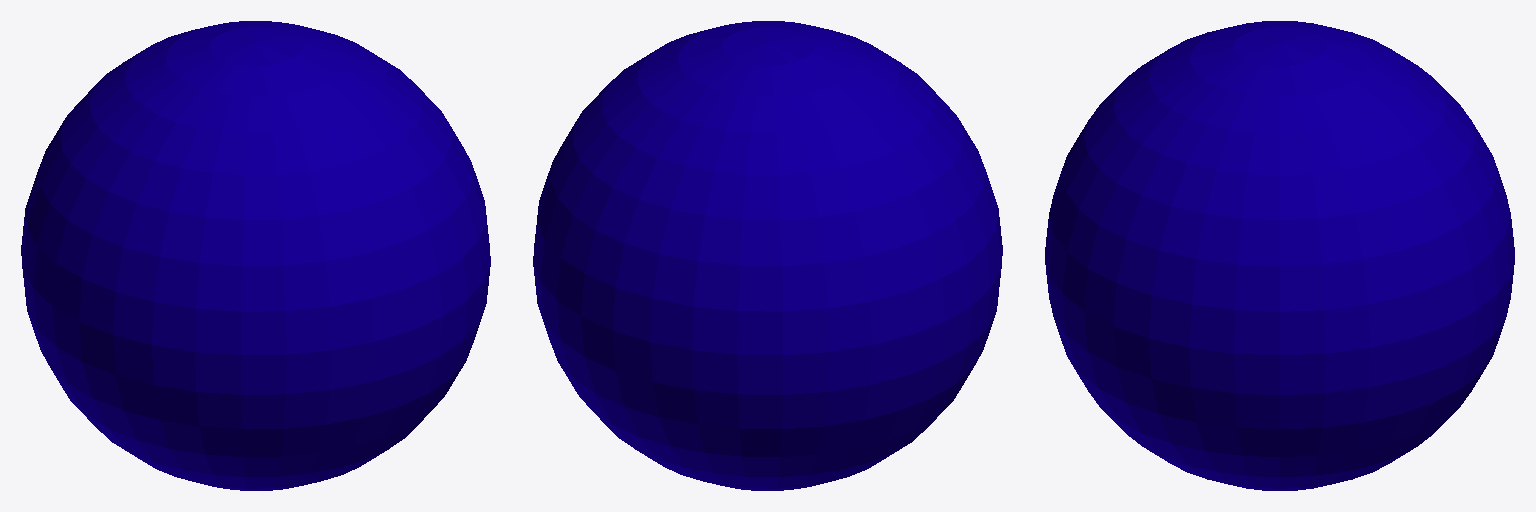
The model's file is sphere20_blue.obj.
The picture shows the model from 3 angles: view 1: azimuth 30°, elevation 25°; view 2: azimuth 150°, elevation 25°; view 3: azimuth 270°, elevation 25°; orthographic projection.
Visible parts, largest first — view 1: Sphere; view 2: Sphere; view 3: Sphere.
Part boxes in pixels (x1,y1,x2,y2): Sphere: (21, 21, 490, 490); Sphere: (533, 21, 1002, 490); Sphere: (1045, 21, 1514, 490).
Size of the model in its own units: 4 by 4 by 4.